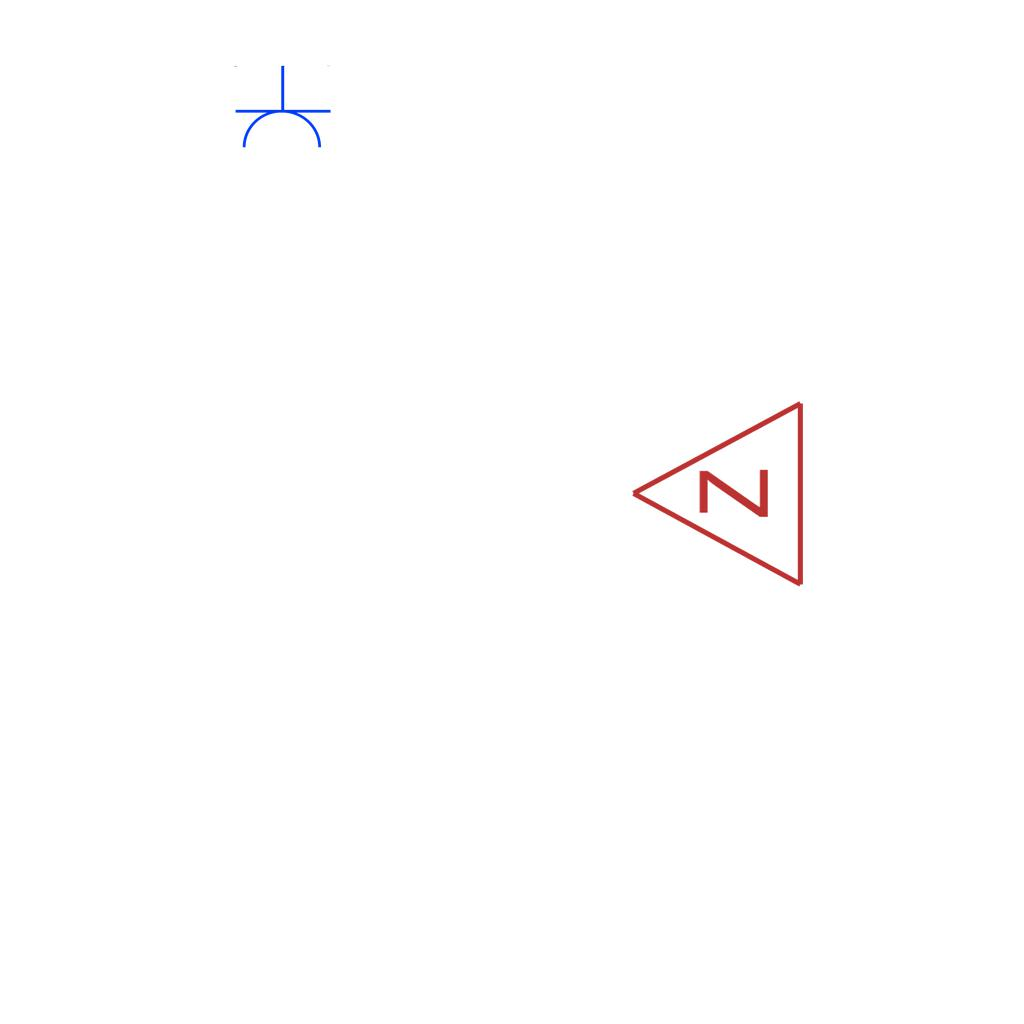Schukosteckdose_einfach: (232, 65, 332, 152)
Zimmersignalleuchte: (618, 398, 818, 594)
